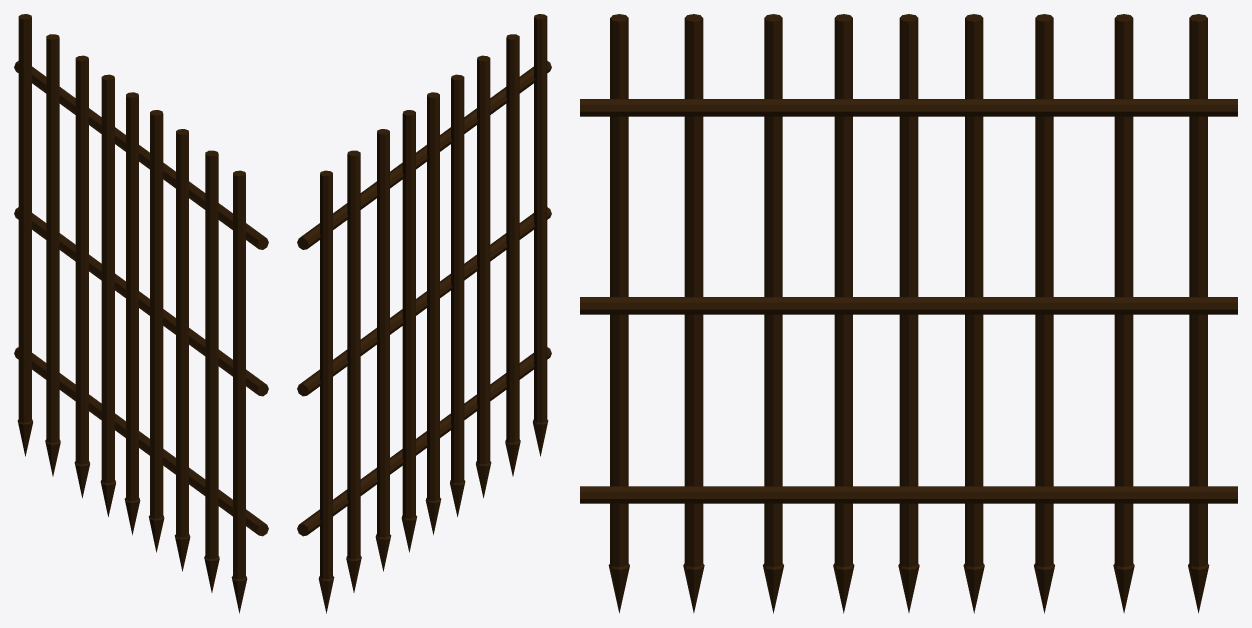
The model's file is TrapDoor.fbx.
3 views of the same model, side by side, from view 1: azimuth 30°, elevation 25°; view 2: azimuth 150°, elevation 25°; view 3: azimuth 270°, elevation 25° (orthographic). The views are drawn at different scales.
Parts seen in each view (by area): view 1: Cylinder.001; view 2: Cylinder.001; view 3: Cylinder.001.
Part boxes in pixels (box(x1,y1,x2,y2)): Cylinder.001: box(14, 14, 268, 613); Cylinder.001: box(297, 14, 551, 613); Cylinder.001: box(580, 14, 1237, 613).
Size of the model in its own units: 18.59 by 354 by 354.
